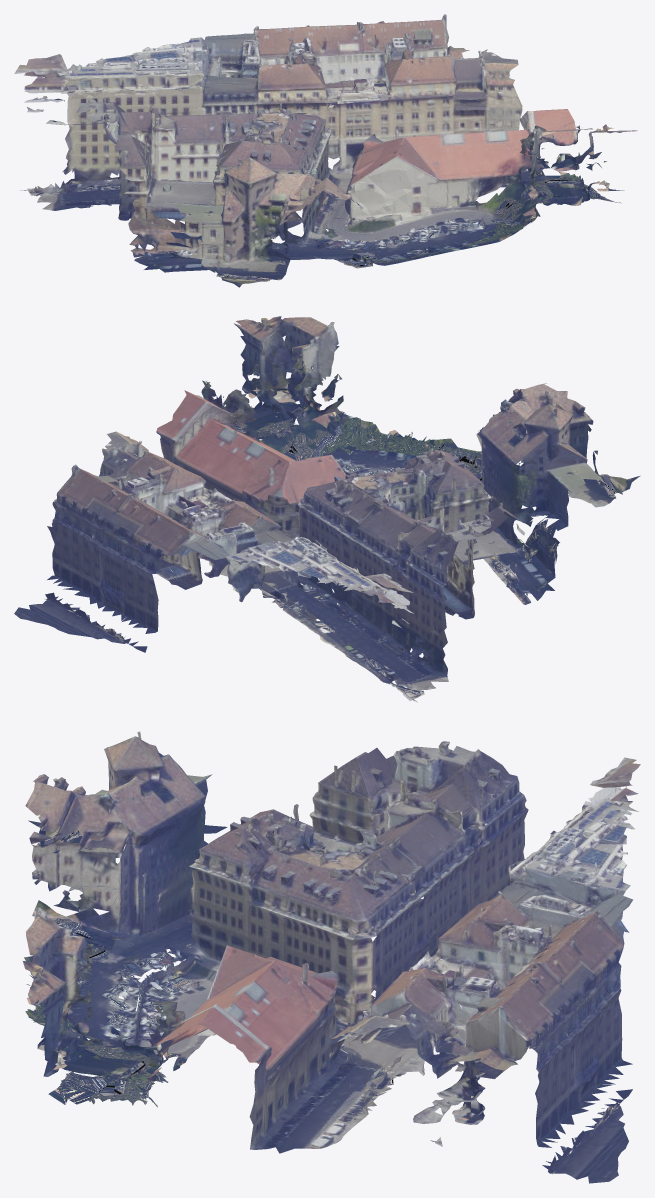
The picture shows the model from 3 angles, top to bottom: view 1: azimuth 30°, elevation 25°; view 2: azimuth 150°, elevation 25°; view 3: azimuth 270°, elevation 25°; orthographic projection. The views are drawn at different scales.
Size of the model in its own units: 110 by 41.14 by 108.
Materials: 1 (1 with a texture image).
